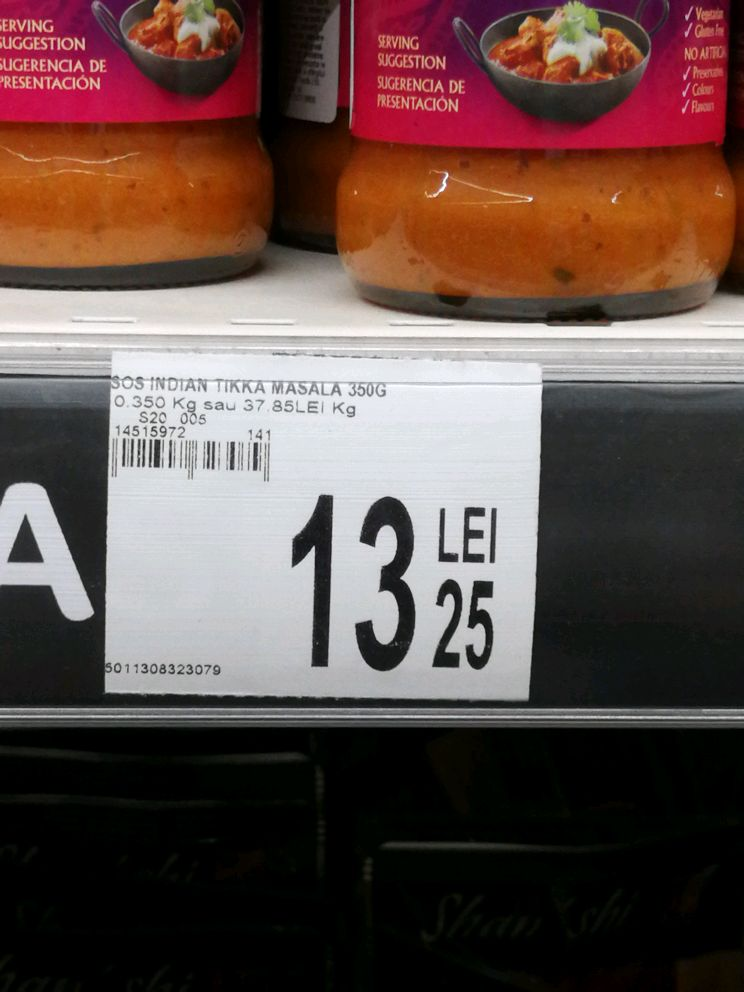price_bani: (422, 573, 509, 680)
price_lei: (277, 487, 421, 678)
price_tag: (85, 335, 558, 717)
product_id: (102, 654, 232, 682)
product_name: (103, 367, 410, 399)
